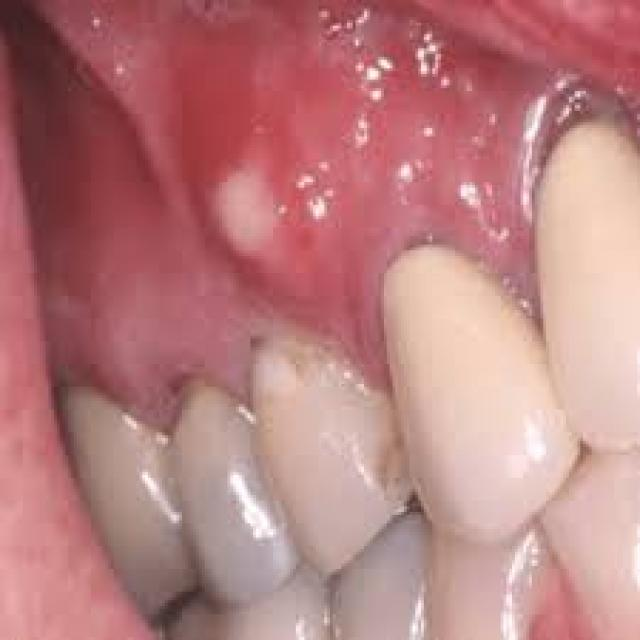abscess: (158, 163, 352, 265)
